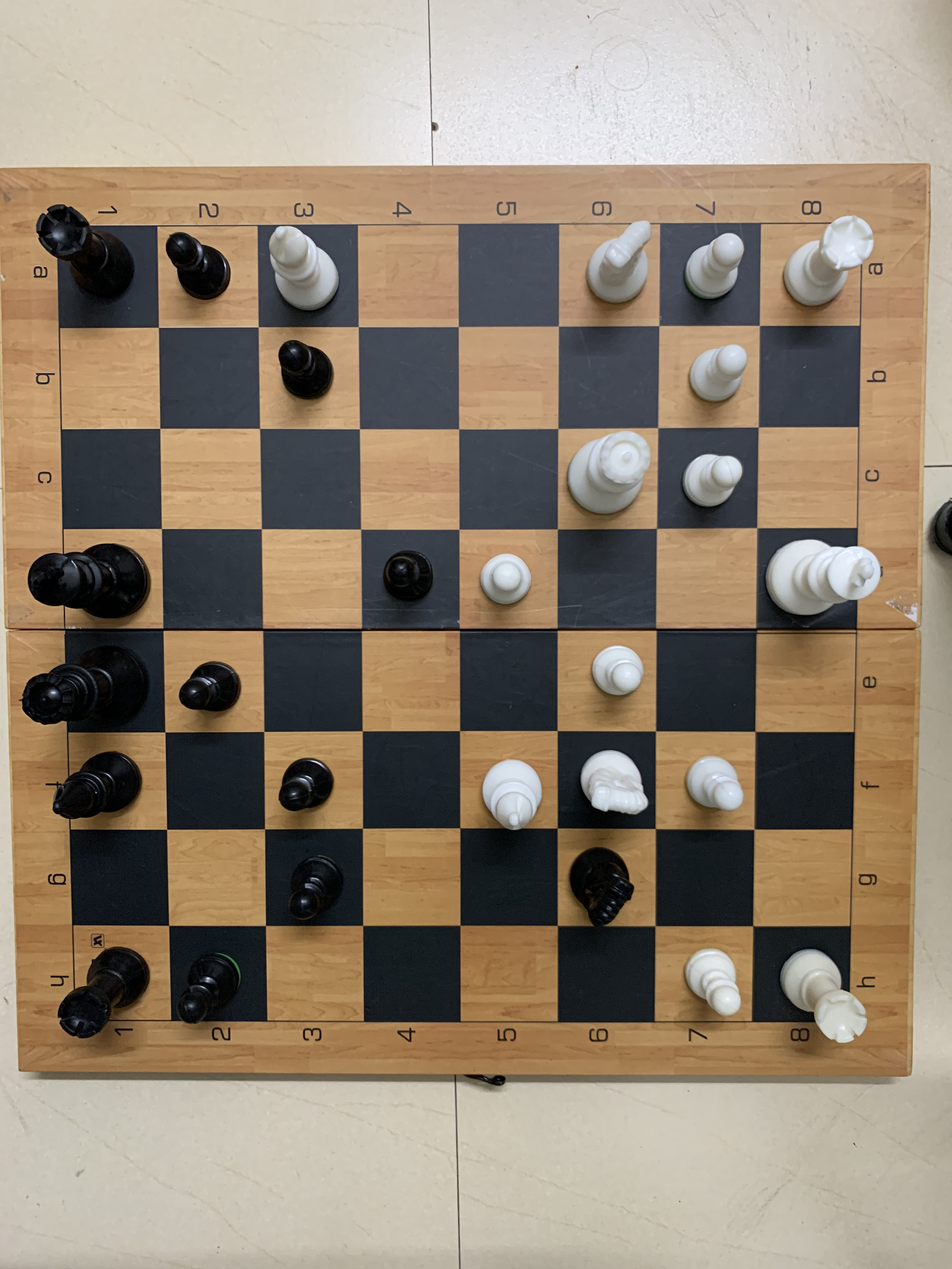black_bishop: (31, 749, 162, 826)
black_king: (18, 543, 151, 625)
black_knight: (565, 839, 650, 931)
black_pawn: (167, 631, 263, 737), (266, 839, 366, 939), (162, 223, 257, 313), (168, 933, 258, 1028), (269, 328, 343, 420), (271, 745, 351, 822), (375, 542, 445, 612)
black_queen: (18, 644, 148, 729)
black_rook: (21, 198, 156, 317), (44, 930, 159, 1040)
white_bishop: (464, 732, 557, 838), (264, 221, 354, 320)
white_king: (759, 531, 892, 634)
white_knight: (564, 222, 667, 322), (559, 743, 660, 825)
white_pawn: (664, 730, 761, 832), (660, 331, 760, 420), (658, 933, 755, 1024), (560, 633, 649, 721), (669, 431, 749, 524), (675, 221, 756, 305), (469, 531, 546, 618)
white_queen: (565, 430, 663, 527)
white_rook: (763, 927, 870, 1056), (771, 210, 882, 320)
